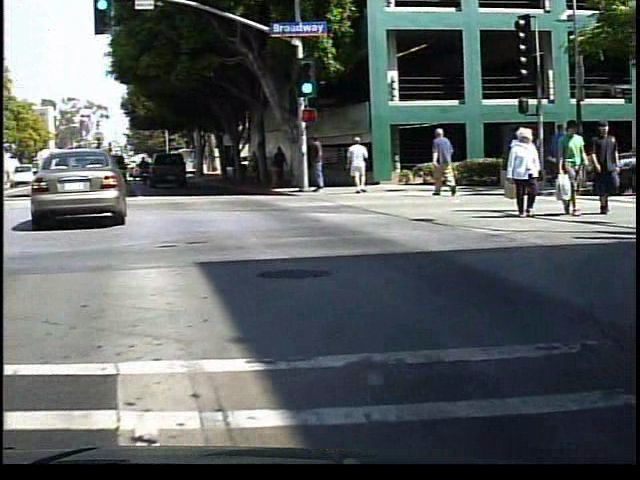person: (502, 126, 548, 218), (557, 119, 592, 218), (593, 120, 622, 218), (431, 126, 463, 197), (549, 117, 573, 191), (313, 132, 336, 200), (351, 137, 377, 197), (277, 143, 297, 191), (257, 147, 273, 189)
